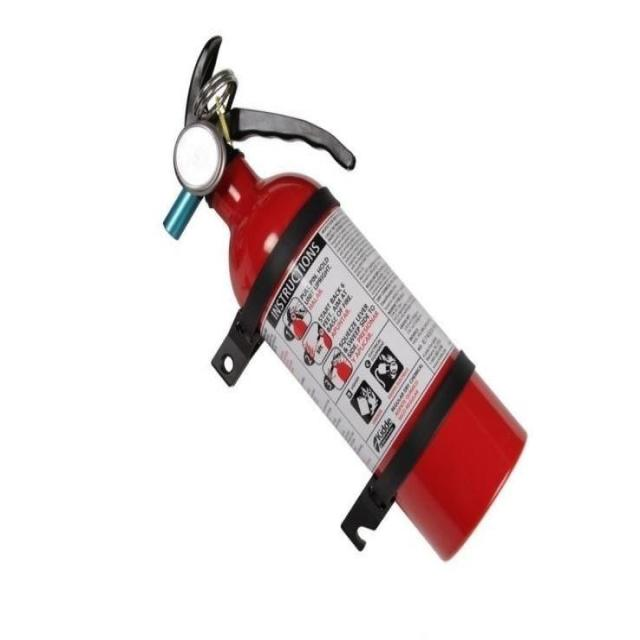fire_extinguisher: (158, 31, 530, 566)
